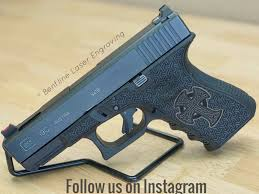gun: (1, 1, 259, 182)
